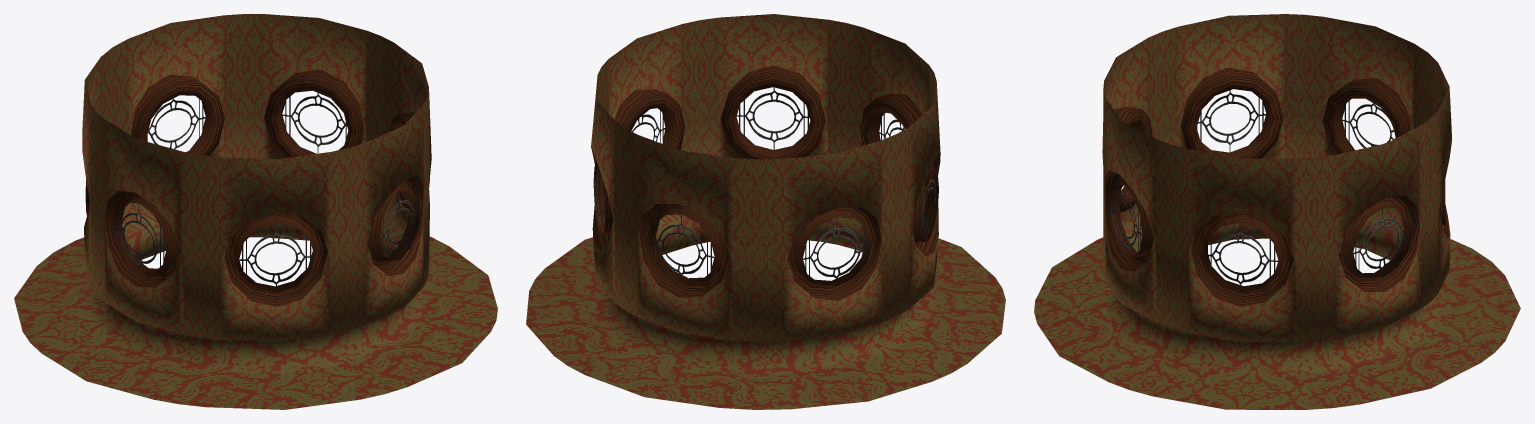
The model's file is Cupola.fbx.
3 views of the same model, side by side, from view 1: azimuth 30°, elevation 25°; view 2: azimuth 150°, elevation 25°; view 3: azimuth 270°, elevation 25° (orthographic).
Parts seen in each view (by area): view 1: Plane.004; view 2: Plane.004; view 3: Plane.004.
Part boxes in pixels (<box>): Plane.004: <box>14,14,497,409</box>; Plane.004: <box>526,14,1005,409</box>; Plane.004: <box>1034,14,1520,409</box>.
Bounding box in the file's own units: 433 × 220 × 438.
